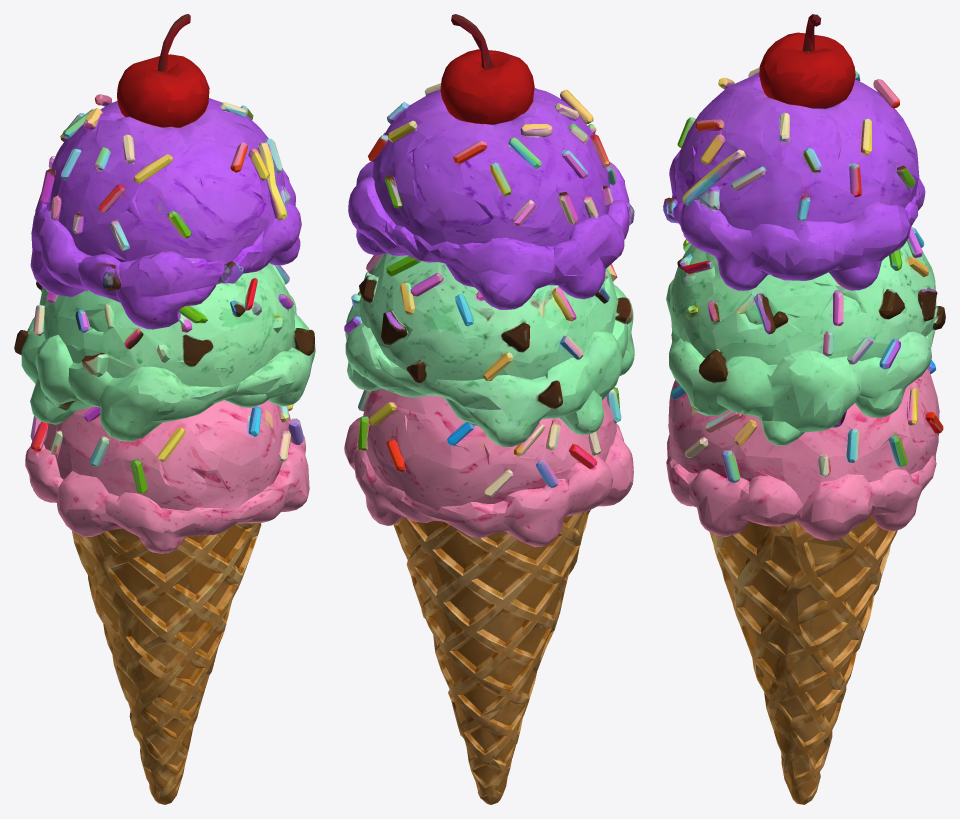
The model's file is triple_cone.glb.
The picture shows the model from 3 angles, left to right: view 1: azimuth 30°, elevation 25°; view 2: azimuth 150°, elevation 25°; view 3: azimuth 270°, elevation 25°; orthographic projection. The views are drawn at different scales.
Parts seen in each view (by area): view 1: Mesh_0; view 2: Mesh_0; view 3: Mesh_0.
Boxes of the visible parts, box(x1,y1,x2,y2) form: Mesh_0: box(14, 14, 315, 804); Mesh_0: box(344, 14, 634, 804); Mesh_0: box(663, 14, 945, 804).
Size of the model in its own units: 0.3411 by 1 by 0.3193.
1 material, 1 textured.
